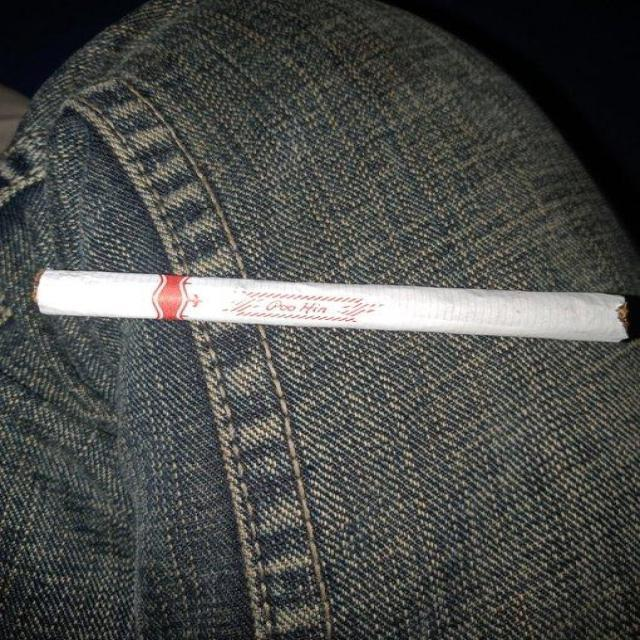rokok: (28, 263, 636, 357)
